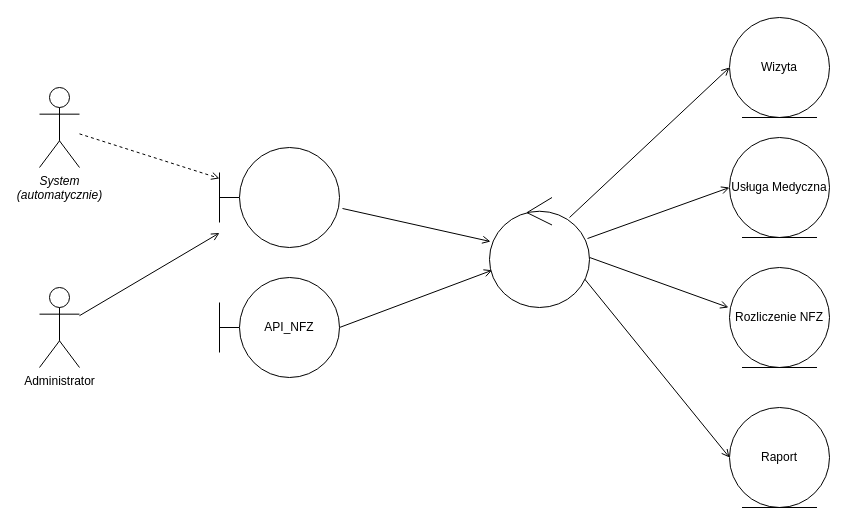
Some shapes in this 847 by 525 pixel diagram are drawn without their labels. The box of each missing label's shape, as (x1, y1, x2, y2) in pixels:
Panel Raportów NFZ: (218, 146, 340, 248)
Raport NFZ: (488, 196, 590, 308)
